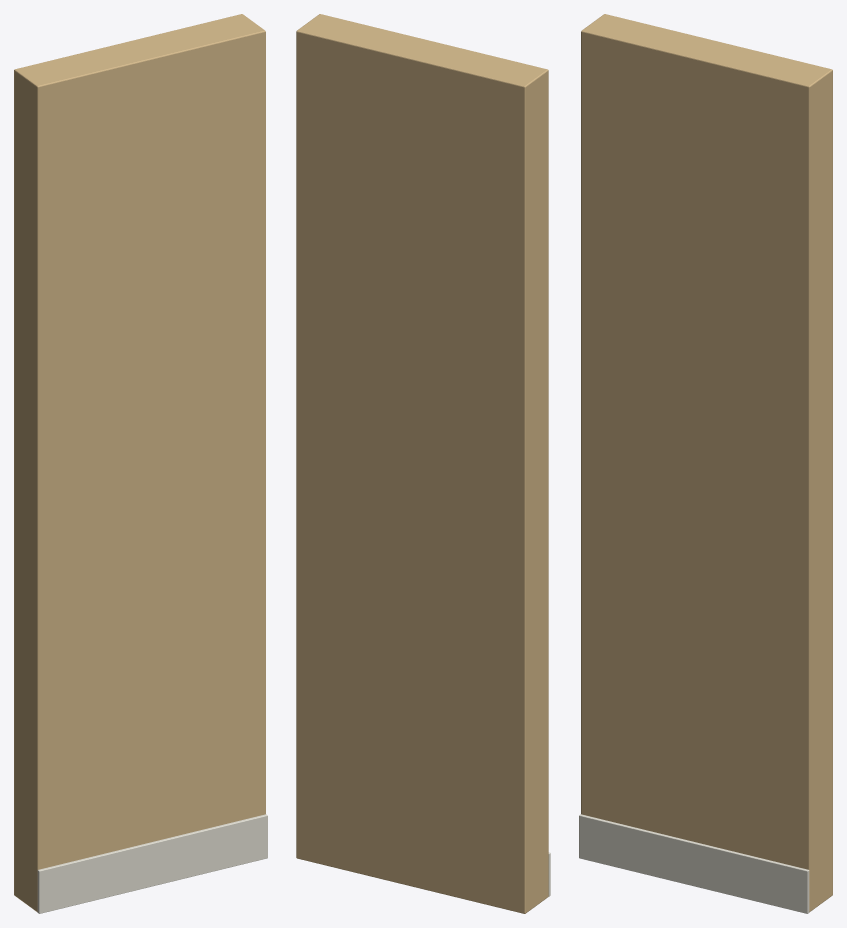
The model's file is wall_solid_1m.glb.
3 renders of one model, left to right at view 1: azimuth 30°, elevation 25°; view 2: azimuth 150°, elevation 25°; view 3: azimuth 330°, elevation 25°, orthographic.
Visible parts, largest first — view 1: KAClass_Wall_Plaster, KAClass_Wall_Skirting; view 2: KAClass_Wall_Plaster; view 3: KAClass_Wall_Plaster, KAClass_Wall_Skirting.
Part boxes in pixels (x1=…): KAClass_Wall_Plaster: x1=14, y1=14, x2=265, y2=912; KAClass_Wall_Skirting: x1=37, y1=814, x2=267, y2=913; KAClass_Wall_Plaster: x1=296, y1=14, x2=548, y2=913; KAClass_Wall_Plaster: x1=581, y1=14, x2=832, y2=912; KAClass_Wall_Skirting: x1=579, y1=814, x2=809, y2=913.
Size of the model in its own units: 1 by 3.45 by 0.194.
